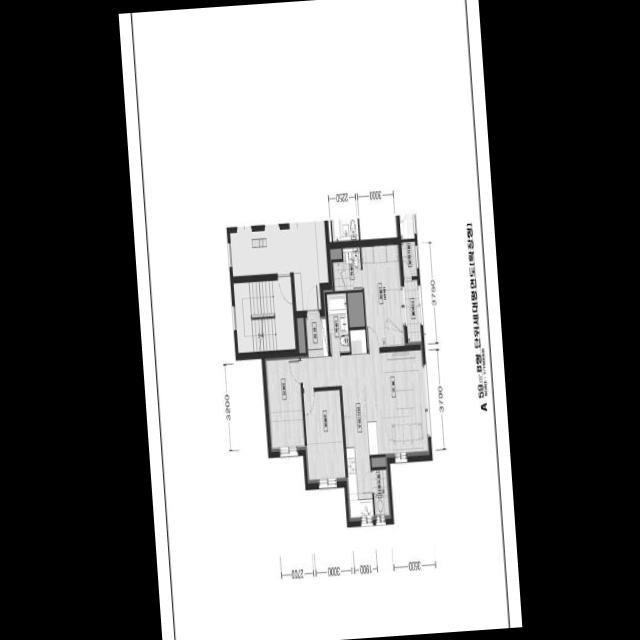background: (118, 0, 522, 640)
space_balconi: (403, 278, 422, 344)
space_bedroom: (360, 243, 405, 347), (303, 389, 345, 483), (264, 355, 305, 451)
space_elevator_hall: (229, 220, 328, 310)
space_front: (305, 311, 328, 357)
space_kitchen: (341, 382, 385, 521)
space_living_room: (300, 328, 429, 457)
space_multipurpose_space: (372, 468, 391, 518)
space_other: (347, 291, 365, 326), (296, 317, 306, 352), (329, 247, 342, 259), (371, 456, 386, 466)
space_outdoor_room: (401, 240, 417, 276)
space_staircase: (233, 279, 295, 352)
space_toilet: (326, 292, 349, 352), (332, 246, 362, 291)
